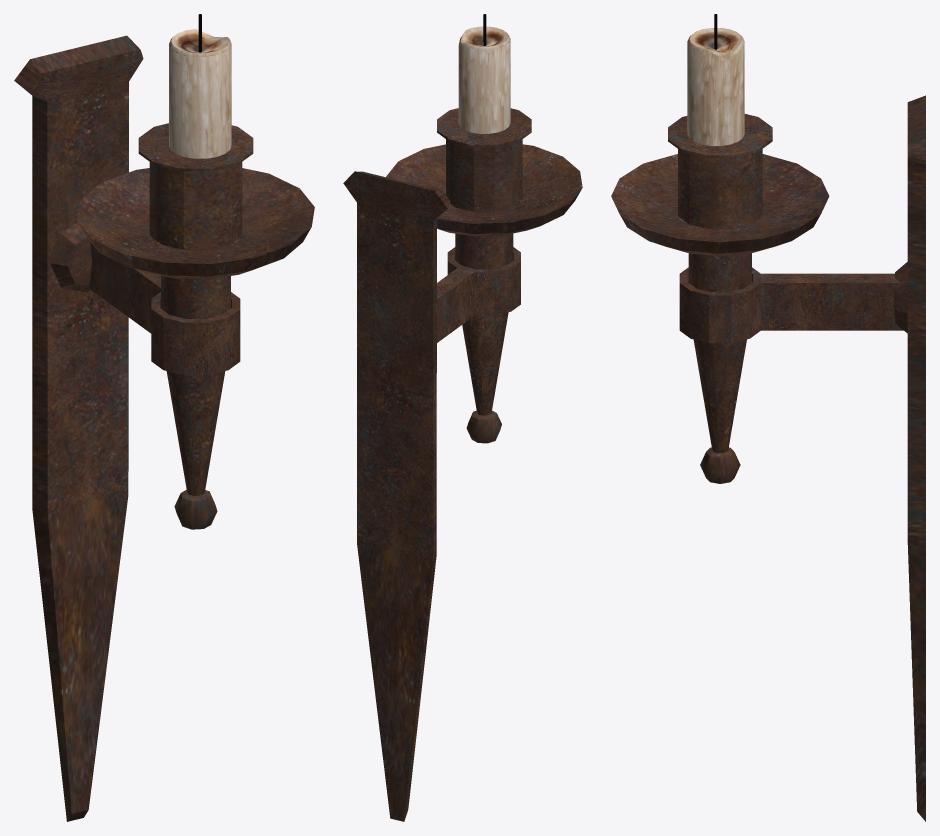
The model's file is Candle 4.fbx.
The picture shows the model from 3 angles, left to right: view 1: azimuth 30°, elevation 25°; view 2: azimuth 150°, elevation 25°; view 3: azimuth 270°, elevation 25°; orthographic projection. The views are drawn at different scales.
Visible parts, largest first — view 1: Candle 4; view 2: Candle 4; view 3: Candle 4.
Part boxes in pixels (box(x1,y1,x2,y2)): Candle 4: box(14, 14, 314, 821); Candle 4: box(343, 14, 582, 821); Candle 4: box(611, 14, 925, 821).
Bounding box in the file's own units: 7.57 × 30.91 × 10.92.
2 materials, 2 textured.
